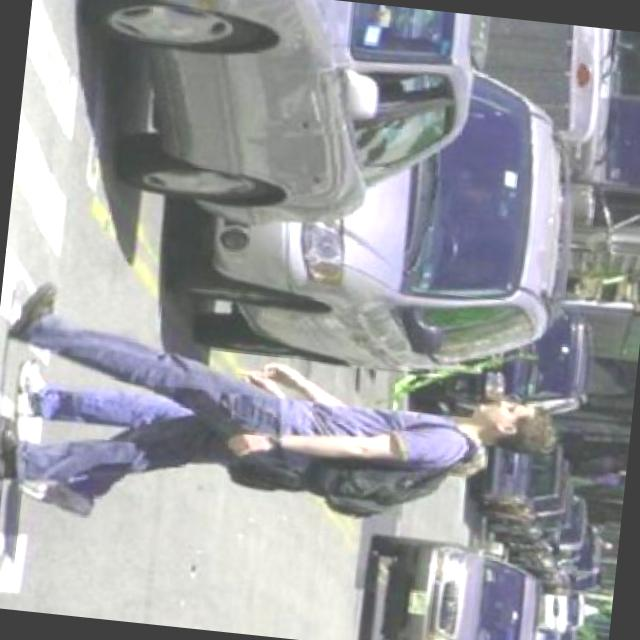Person: (0, 272, 567, 550)
